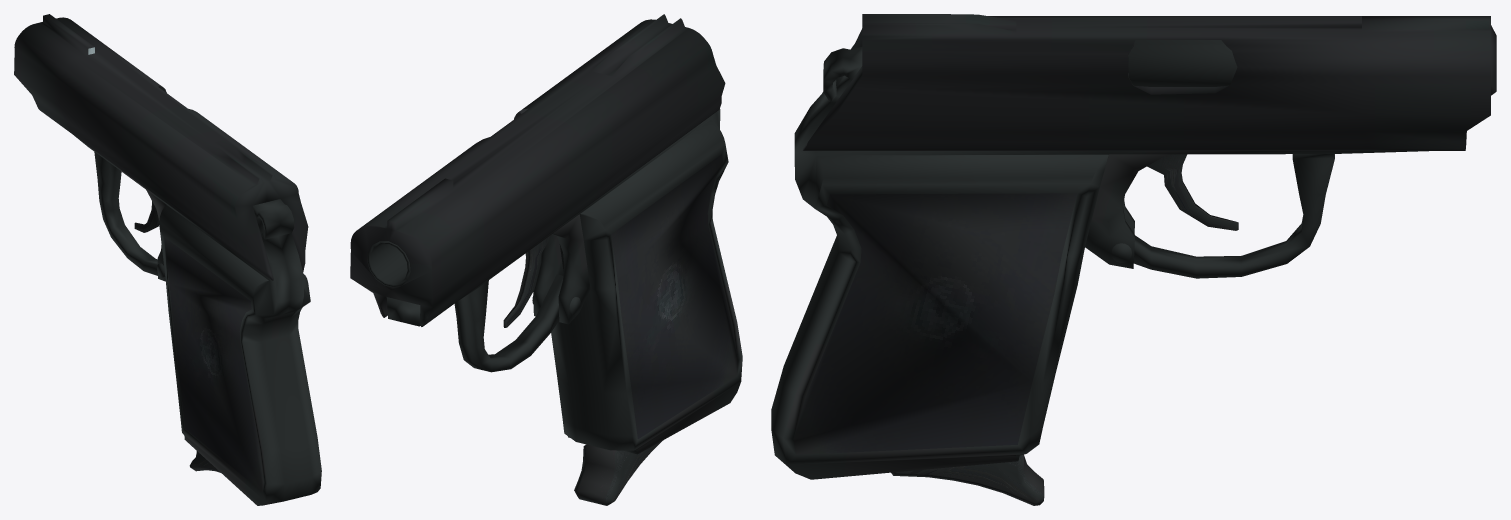
3 views of the same model, side by side, from view 1: azimuth 30°, elevation 25°; view 2: azimuth 150°, elevation 25°; view 3: azimuth 270°, elevation 25° (orthographic). The views are drawn at different scales.
Visible parts, largest first — view 1: Body, Barrel; view 2: Body, Barrel, Mag, trigger; view 3: Body, Barrel, Mag, trigger.
Part boxes in pixels (x1,y1,x2,y2): Body: [75, 136, 321, 505]; Barrel: [14, 14, 308, 280]; Body: [367, 109, 742, 454]; Barrel: [350, 14, 725, 326]; Mag: [574, 440, 663, 505]; trigger: [503, 234, 551, 327]; Body: [771, 40, 1428, 479]; Barrel: [802, 14, 1496, 150]; Mag: [891, 454, 1044, 505]; trigger: [1147, 154, 1238, 230].
Bounding box in the file's own units: 0.6428 × 3.19 × 4.38.
Materials: 2 (2 with a texture image).
